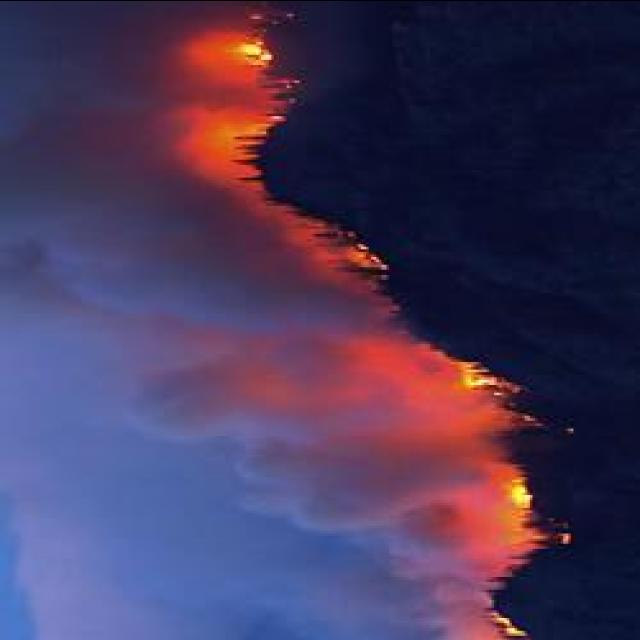fire: (452, 360, 502, 392), (510, 472, 536, 512), (240, 38, 278, 62)
smoke: (2, 0, 160, 307), (17, 552, 410, 636), (203, 426, 479, 531), (86, 328, 324, 444), (142, 3, 228, 223), (125, 274, 364, 340), (394, 494, 476, 640), (307, 348, 433, 410)
